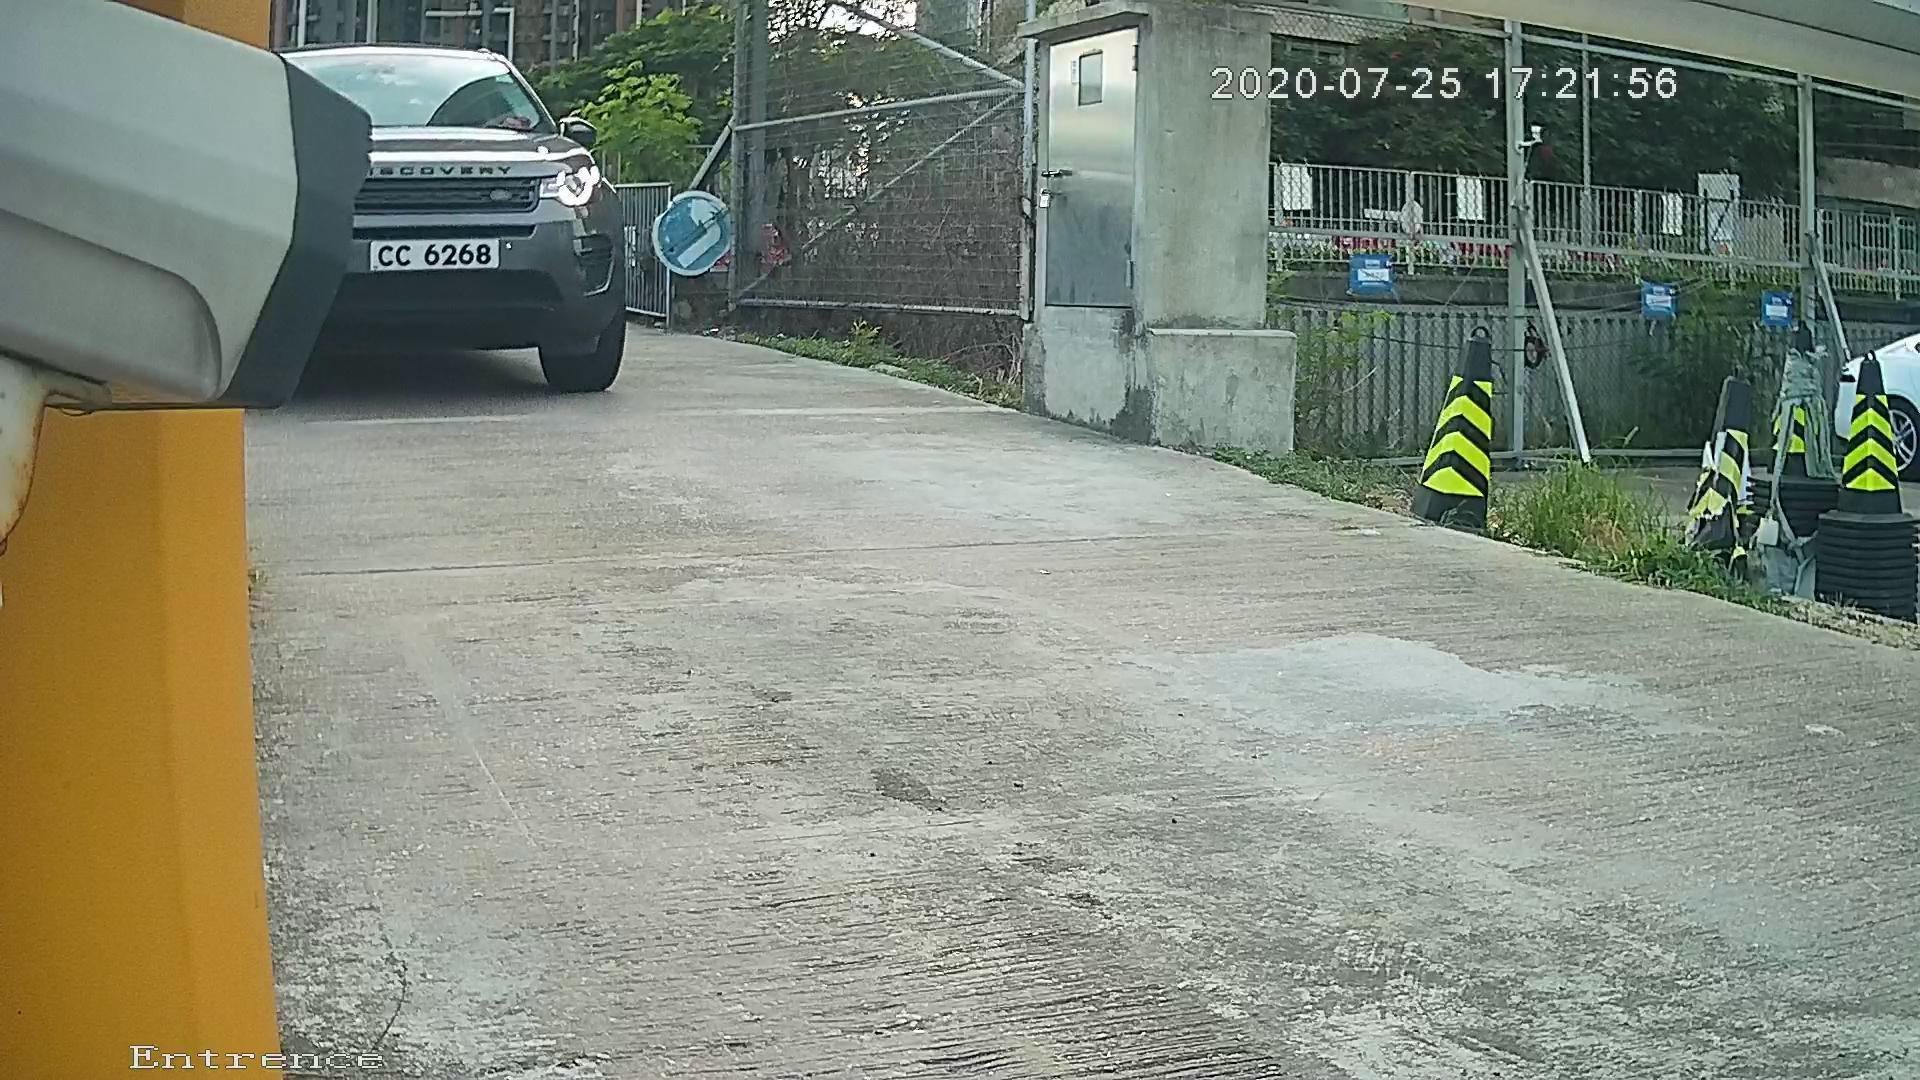privatecar: (164, 15, 703, 463)
